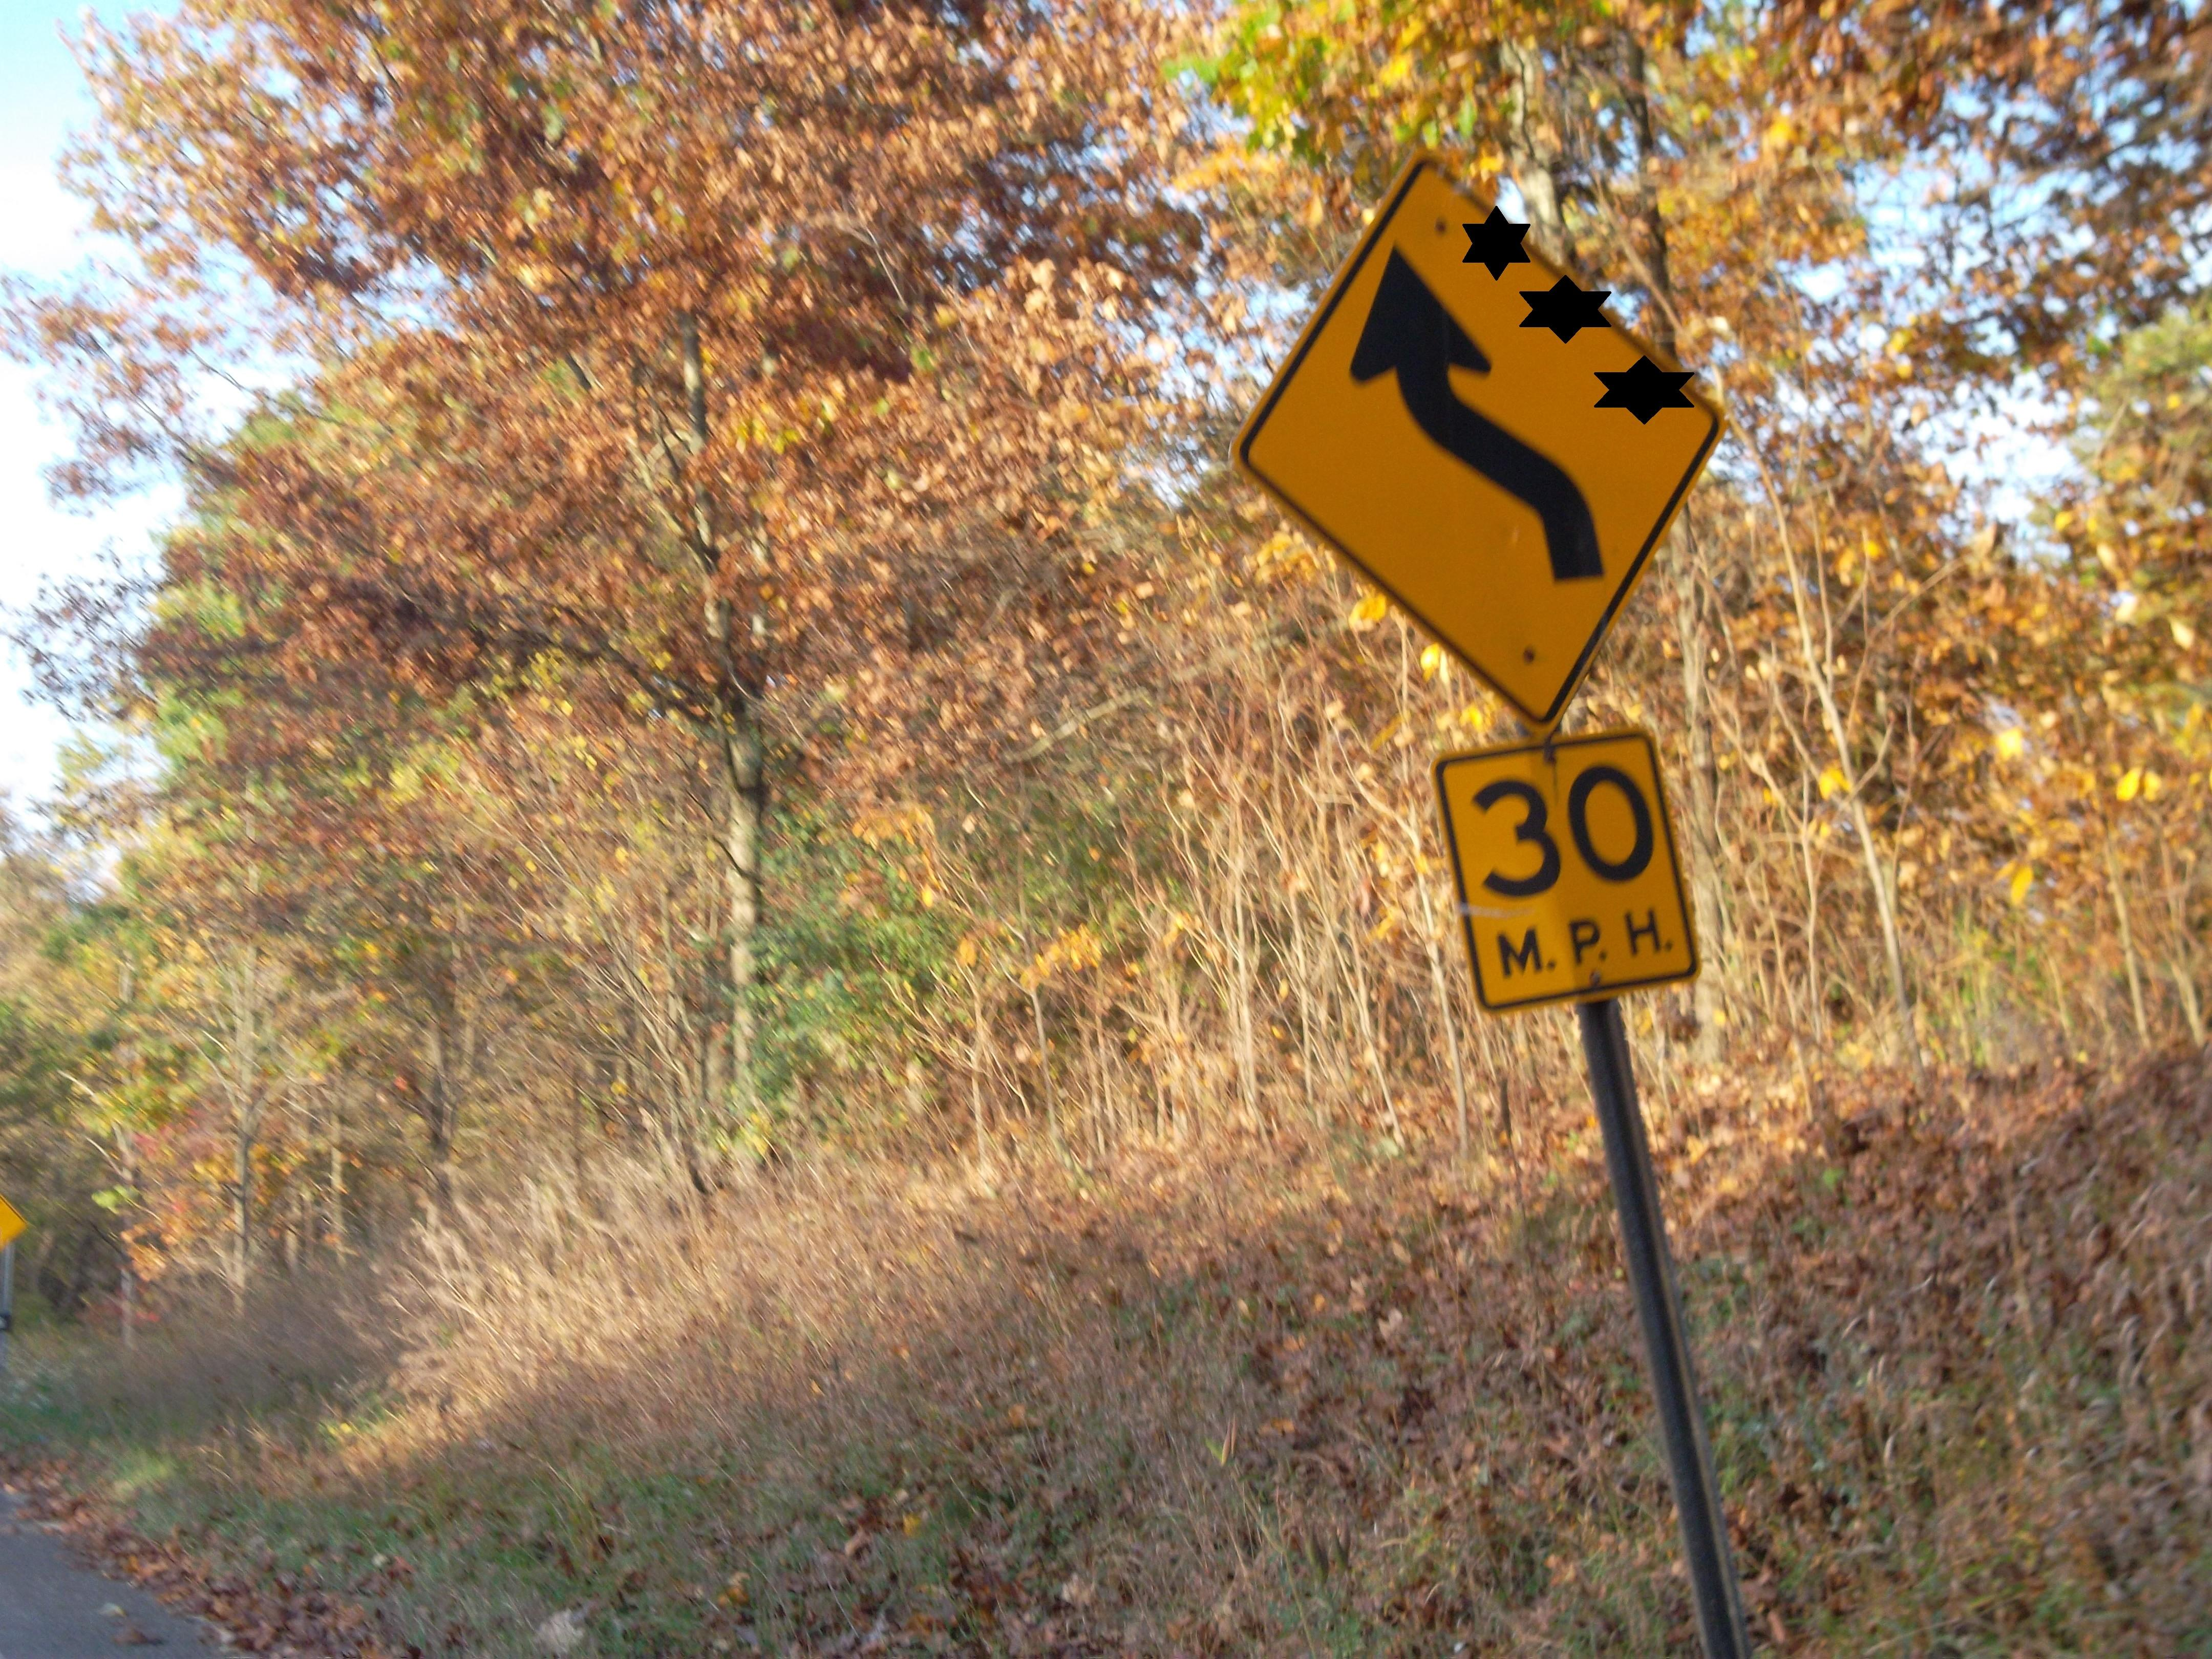warning: (1223, 146, 1723, 732), (1432, 721, 1710, 1028)
